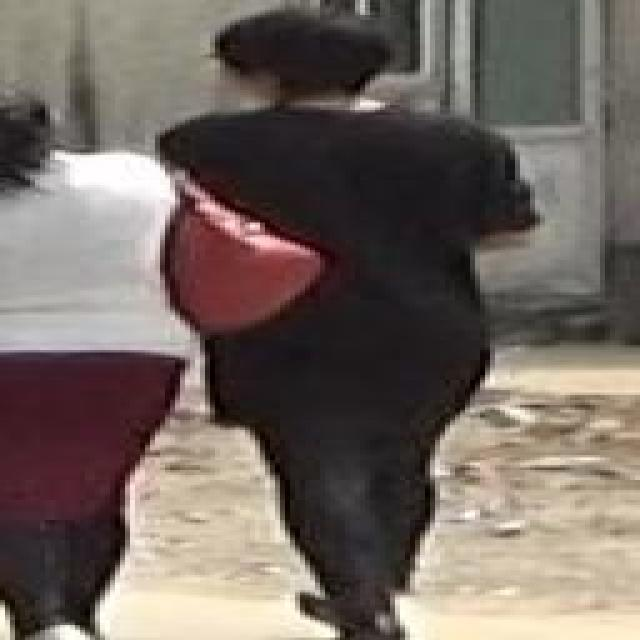adult: (149, 12, 578, 639), (0, 95, 260, 640)
